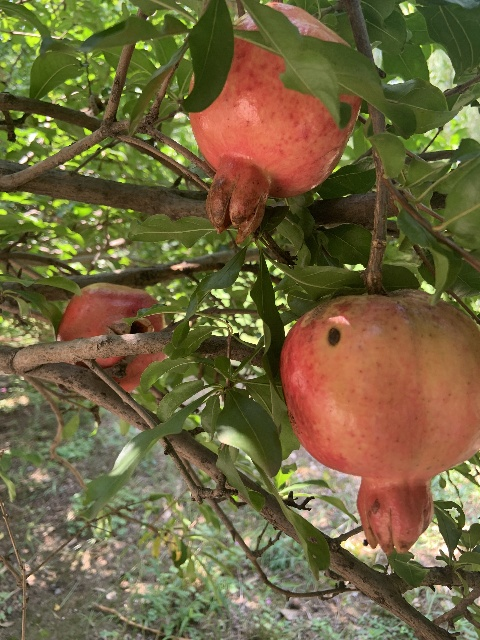ripe: (280, 292, 480, 556), (188, 1, 360, 244), (57, 284, 170, 393)
